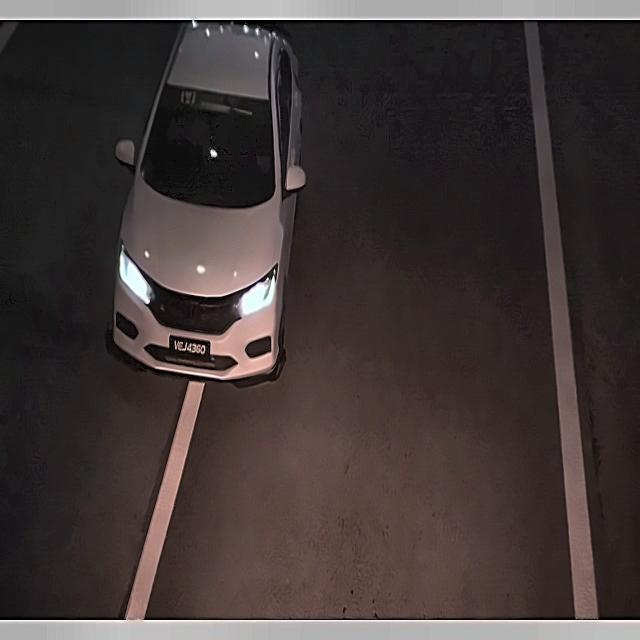car: (166, 328, 214, 369)
